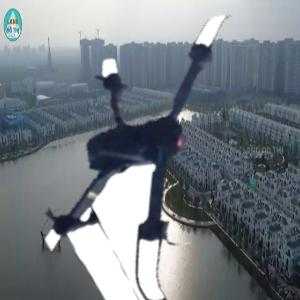drone: (11, 6, 294, 289)
